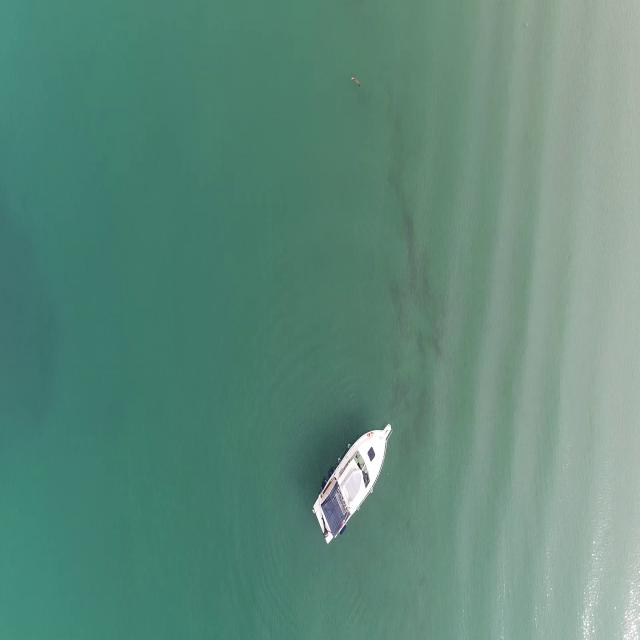boat: (314, 419, 391, 552)
wood: (350, 75, 362, 89)
